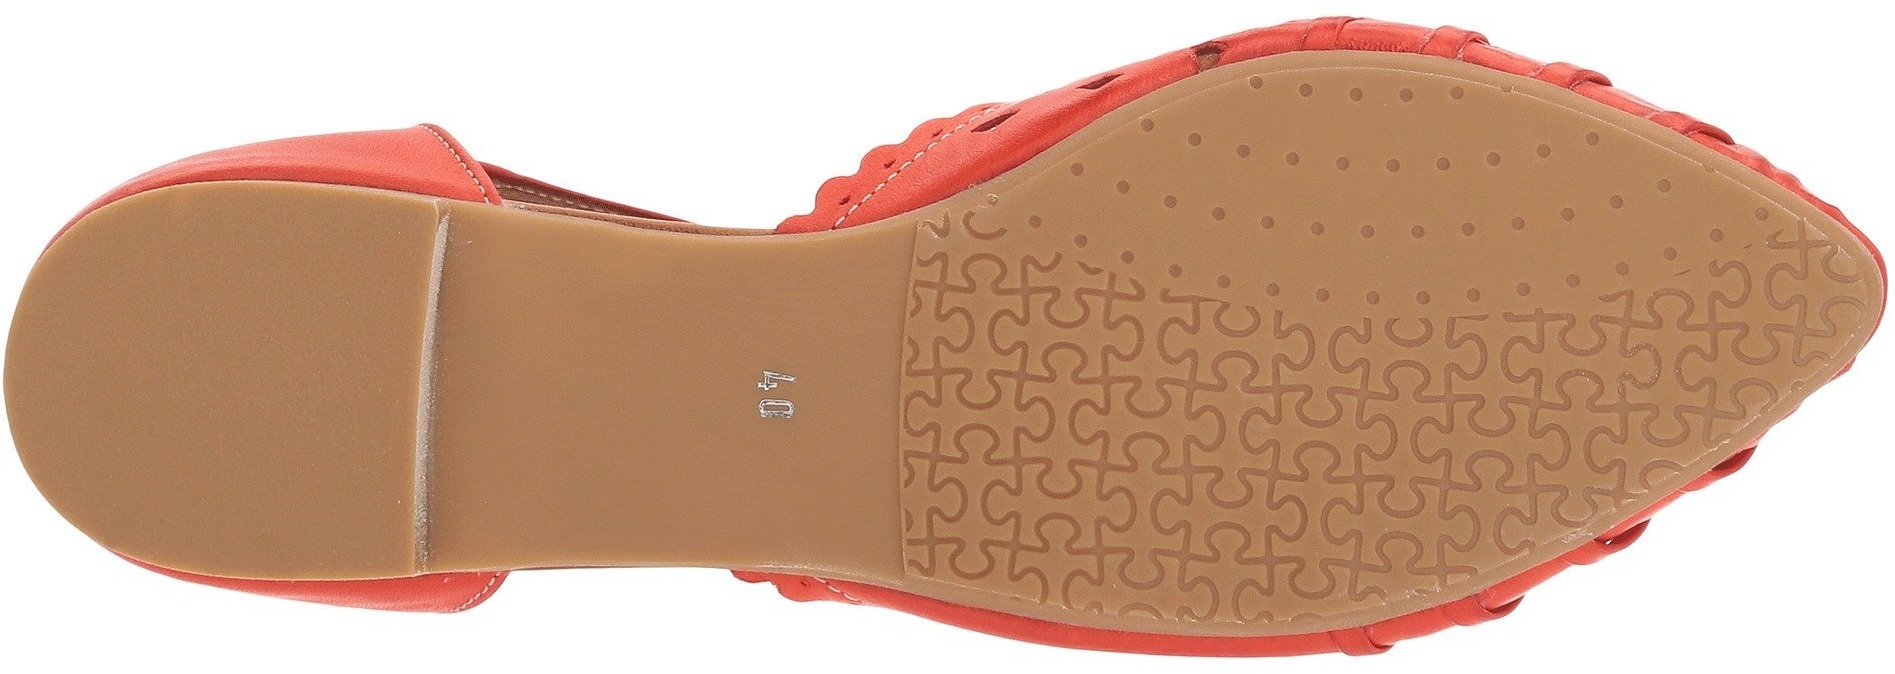other: (68, 248, 383, 540), (469, 279, 709, 519), (1036, 337, 1274, 559), (1198, 88, 1425, 312)
text: (738, 353, 823, 445)
